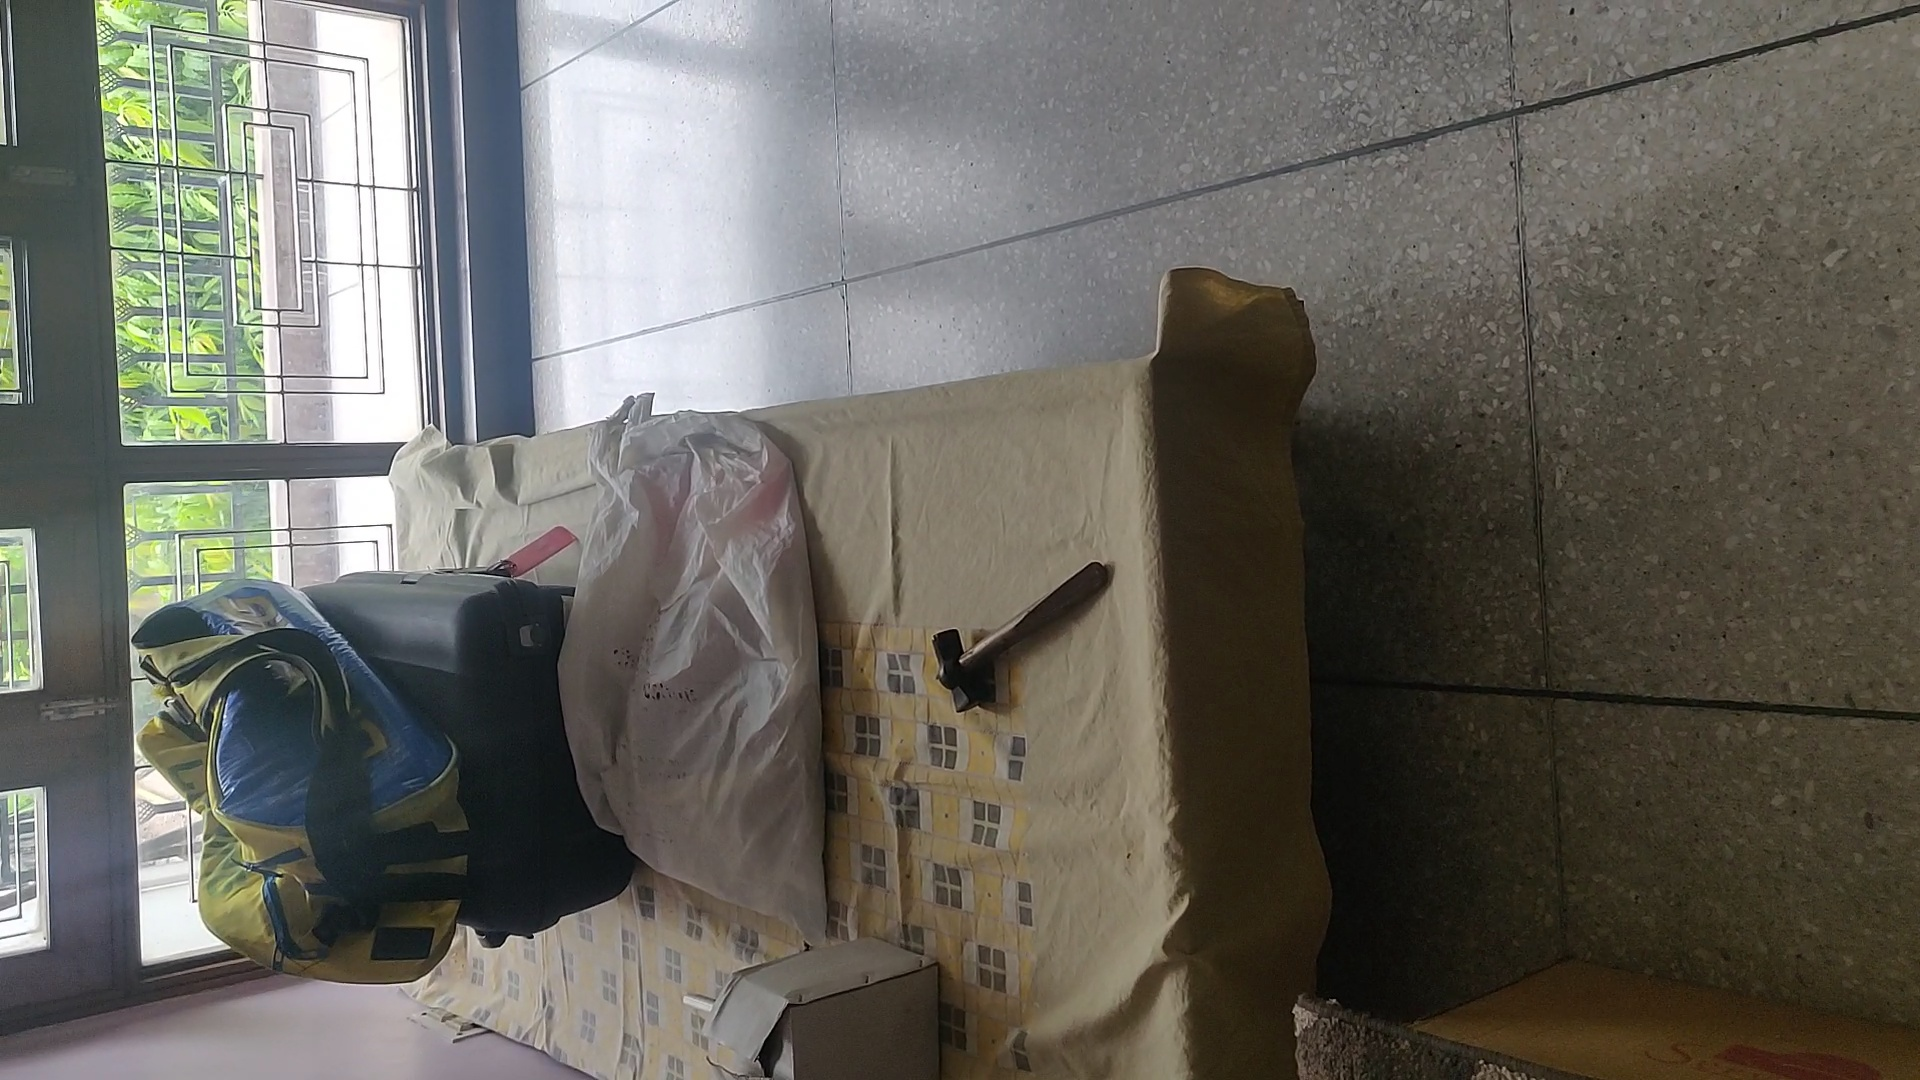hammer: (928, 556, 1116, 716)
